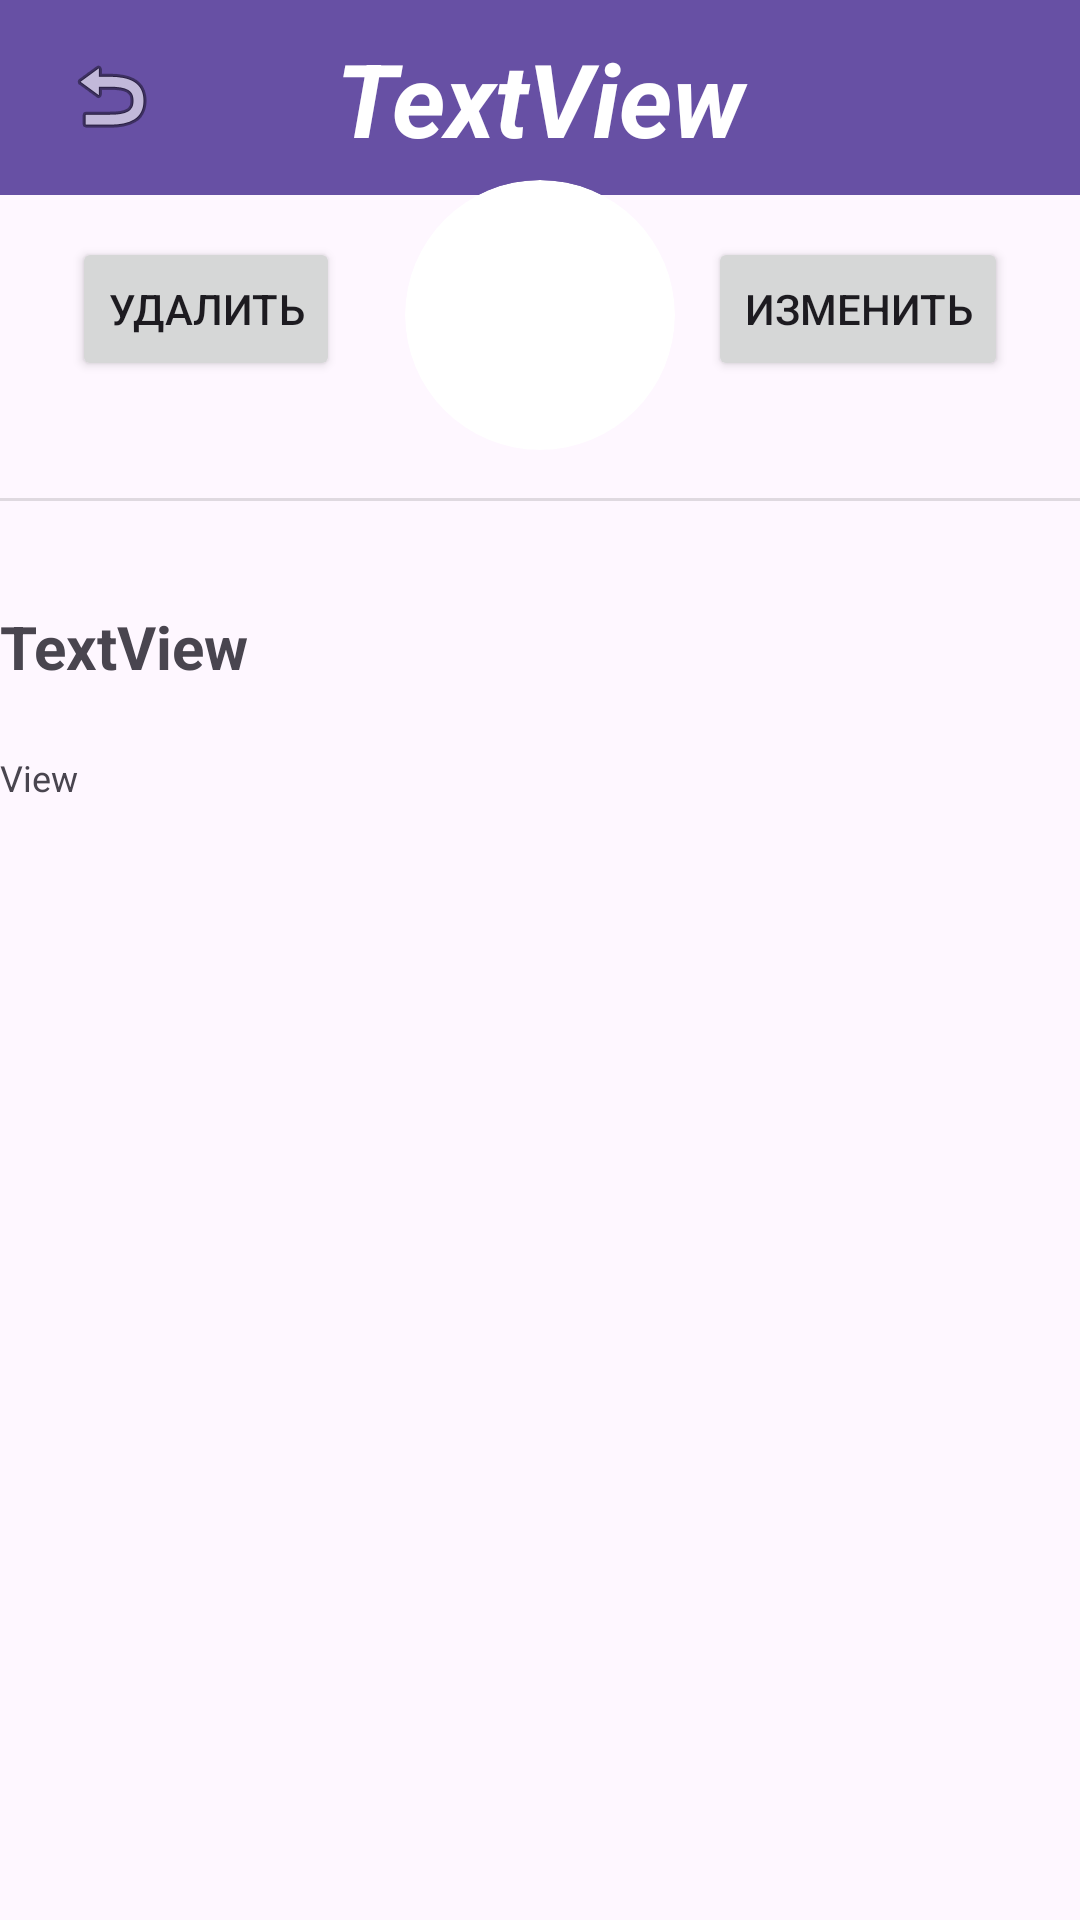

Icon bounding boxes for this 1080px x 1920px phone screenshot, format bbox=(x1, y1, x2, y2):
revert: bbox=(78, 65, 147, 128)
